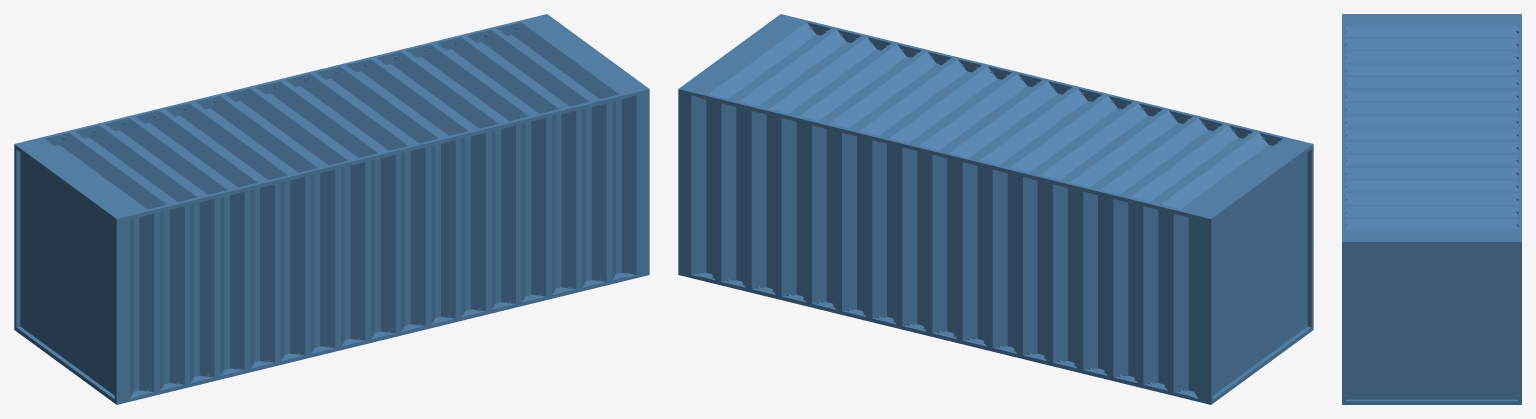
Rendered from shippingCrate.fbx.
3 renders of one model, left to right at view 1: azimuth 30°, elevation 25°; view 2: azimuth 150°, elevation 25°; view 3: azimuth 270°, elevation 25°, orthographic. The views are drawn at different scales.
Visible parts, largest first — view 1: shippingcrate; view 2: shippingcrate; view 3: shippingcrate.
Part boxes in pixels (<box>): shippingcrate: <box>14,14,649,404</box>; shippingcrate: <box>678,14,1313,404</box>; shippingcrate: <box>1342,14,1521,404</box>.
Size of the model in its own units: 900 by 300 by 300.
